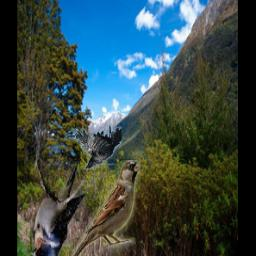Crow: (65, 123, 122, 170)
Sparrow: (68, 161, 140, 256)
Swallow: (30, 161, 85, 256)
